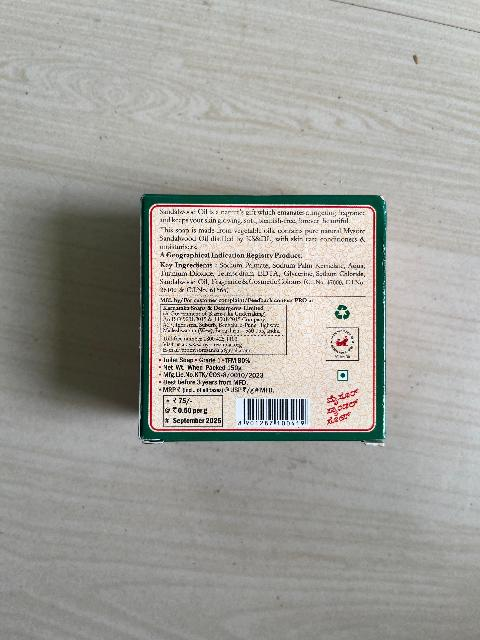mysore sandal soap: (133, 199, 387, 439)
